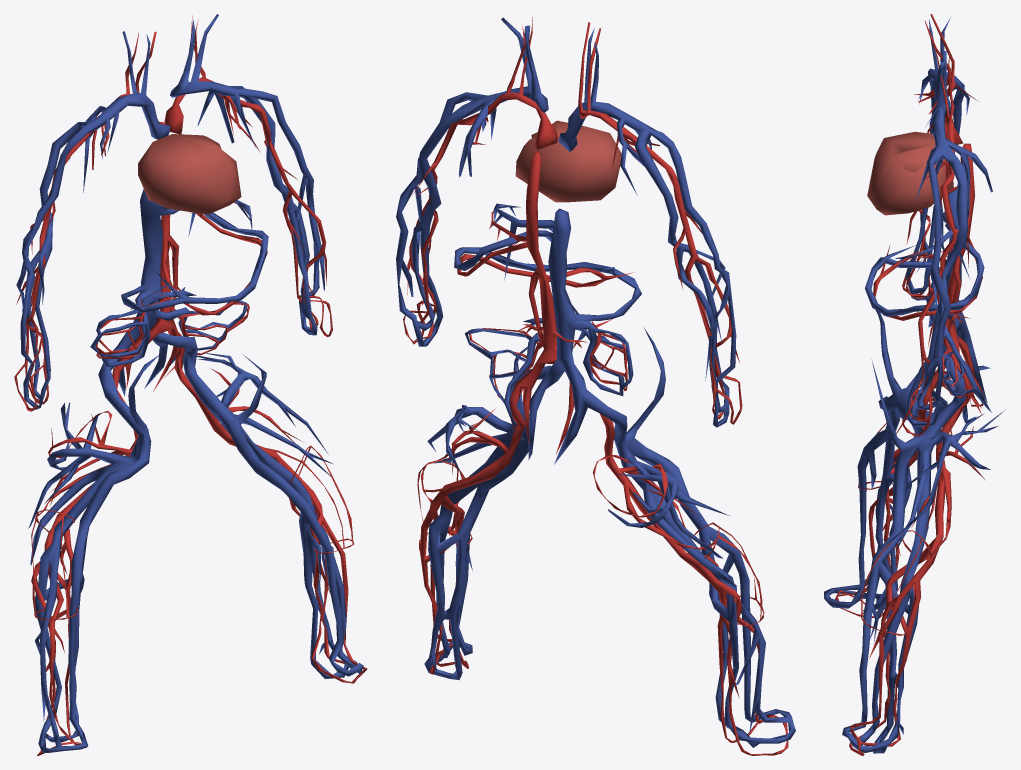
File: pediatric_neonate_male.cardiovascular.LOD3.glb
3 renders of one model, left to right at view 1: azimuth 30°, elevation 25°; view 2: azimuth 150°, elevation 25°; view 3: azimuth 270°, elevation 25°, orthographic. The views are drawn at different scales.
Visible parts, largest first — view 1: PEDIATRIC.NEONATE.MALE.CARDIOVASCULAR.BLOOD_IN_LARGE_VEINS, PEDIATRIC.NEONATE.MALE.CARDIOVASCULAR.BLOOD_IN_LARGE_ARTERIE, PEDIATRIC.NEONATE.MALE.CARDIOVASCULAR.HEART_WALL; view 2: PEDIATRIC.NEONATE.MALE.CARDIOVASCULAR.BLOOD_IN_LARGE_VEINS, PEDIATRIC.NEONATE.MALE.CARDIOVASCULAR.BLOOD_IN_LARGE_ARTERIE, PEDIATRIC.NEONATE.MALE.CARDIOVASCULAR.HEART_WALL; view 3: PEDIATRIC.NEONATE.MALE.CARDIOVASCULAR.BLOOD_IN_LARGE_VEINS, PEDIATRIC.NEONATE.MALE.CARDIOVASCULAR.BLOOD_IN_LARGE_ARTERIE, PEDIATRIC.NEONATE.MALE.CARDIOVASCULAR.HEART_WALL.
Boxes of the visible parts, x1,y1,x2,y2 form: PEDIATRIC.NEONATE.MALE.CARDIOVASCULAR.BLOOD_IN_LARGE_VEINS: (16, 14, 363, 752); PEDIATRIC.NEONATE.MALE.CARDIOVASCULAR.BLOOD_IN_LARGE_ARTERIE: (14, 15, 367, 755); PEDIATRIC.NEONATE.MALE.CARDIOVASCULAR.HEART_WALL: (138, 134, 241, 214); PEDIATRIC.NEONATE.MALE.CARDIOVASCULAR.BLOOD_IN_LARGE_VEINS: (396, 17, 795, 747); PEDIATRIC.NEONATE.MALE.CARDIOVASCULAR.BLOOD_IN_LARGE_ARTERIE: (403, 16, 788, 755); PEDIATRIC.NEONATE.MALE.CARDIOVASCULAR.HEART_WALL: (515, 120, 621, 202); PEDIATRIC.NEONATE.MALE.CARDIOVASCULAR.BLOOD_IN_LARGE_VEINS: (824, 17, 1005, 753); PEDIATRIC.NEONATE.MALE.CARDIOVASCULAR.BLOOD_IN_LARGE_ARTERIE: (835, 14, 985, 755); PEDIATRIC.NEONATE.MALE.CARDIOVASCULAR.HEART_WALL: (867, 131, 953, 215).
Bounding box in the file's own units: 0.1947 × 0.3766 × 0.0951.
